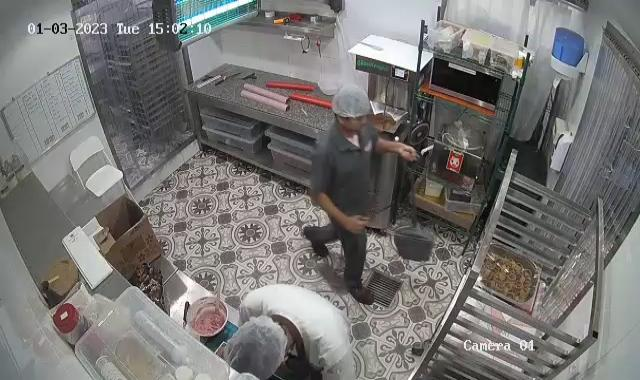hairnet: (222, 314, 286, 380), (330, 85, 373, 123)
